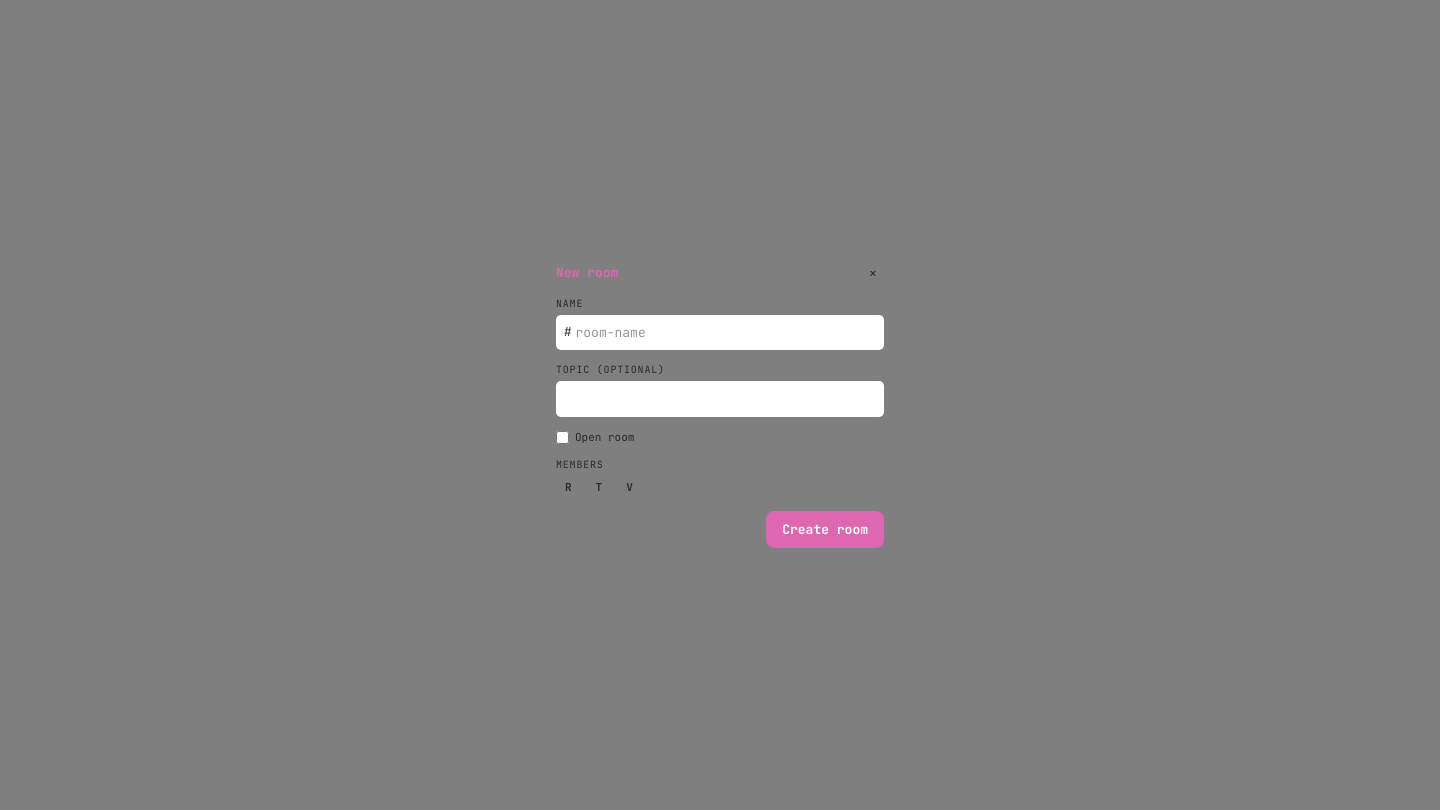
Test: RoomCreateModal — validation › does not submit and shows the required error when name is empty
This screenshot has width=1440, height=810.
What coordinates should you click on to do the following:
click the button with test id "comms-modal-submit"
I would click on:
 (825, 530)
Its box is [766, 511, 884, 548].
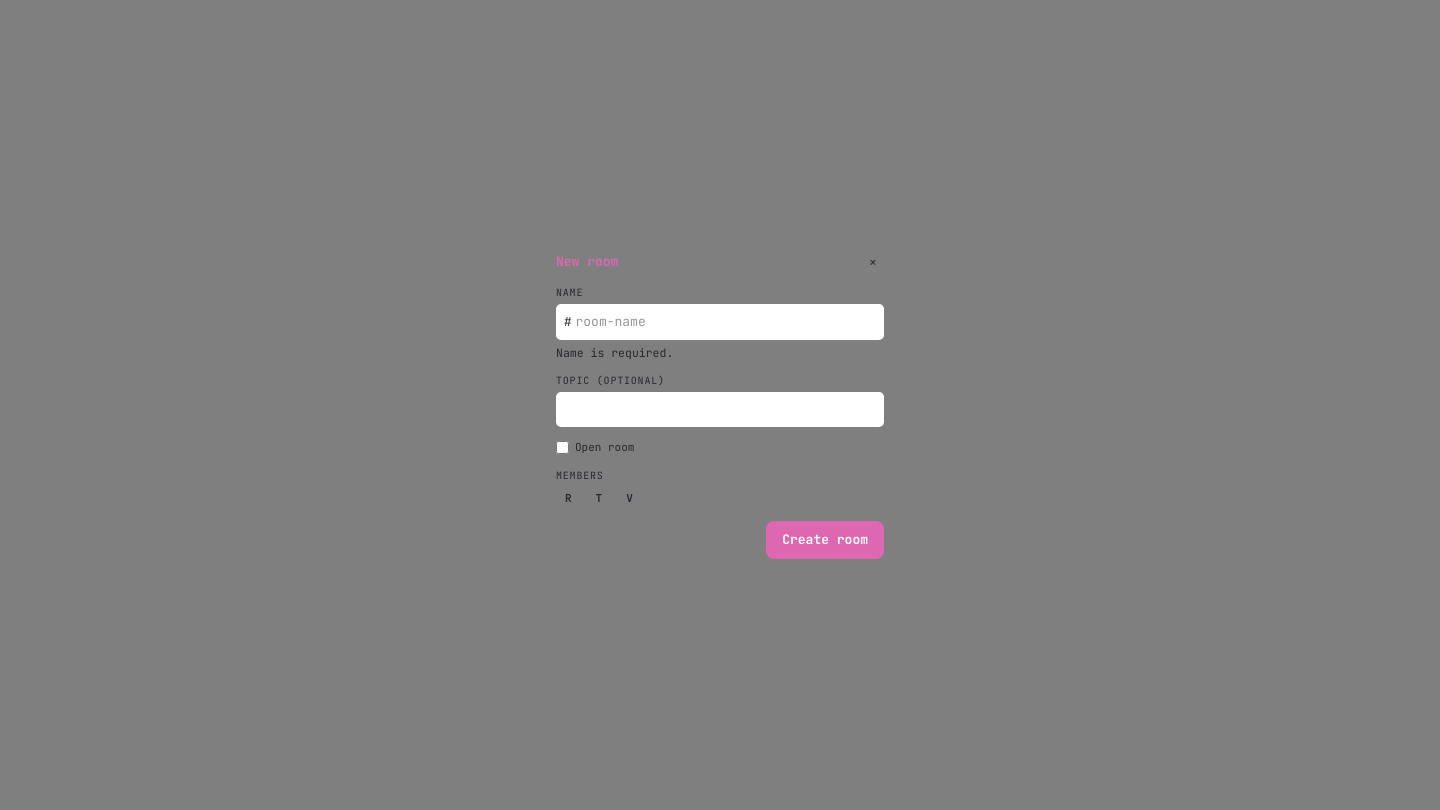
Check: the text with test id "comms-modal-name-error" is shown, box [556, 345, 673, 360]
